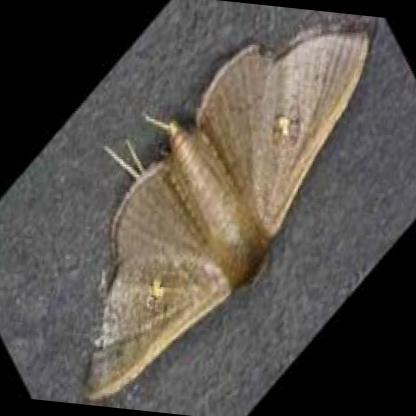Leaf Webber: (83, 19, 373, 403)
